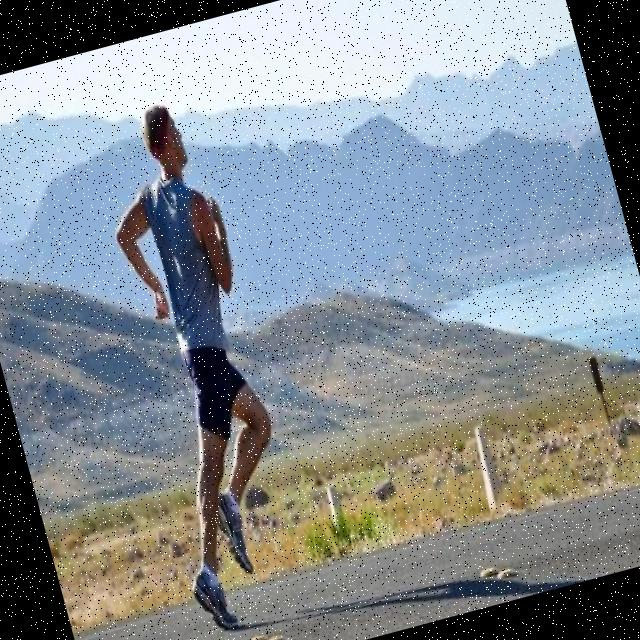Person: (68, 93, 326, 636)
